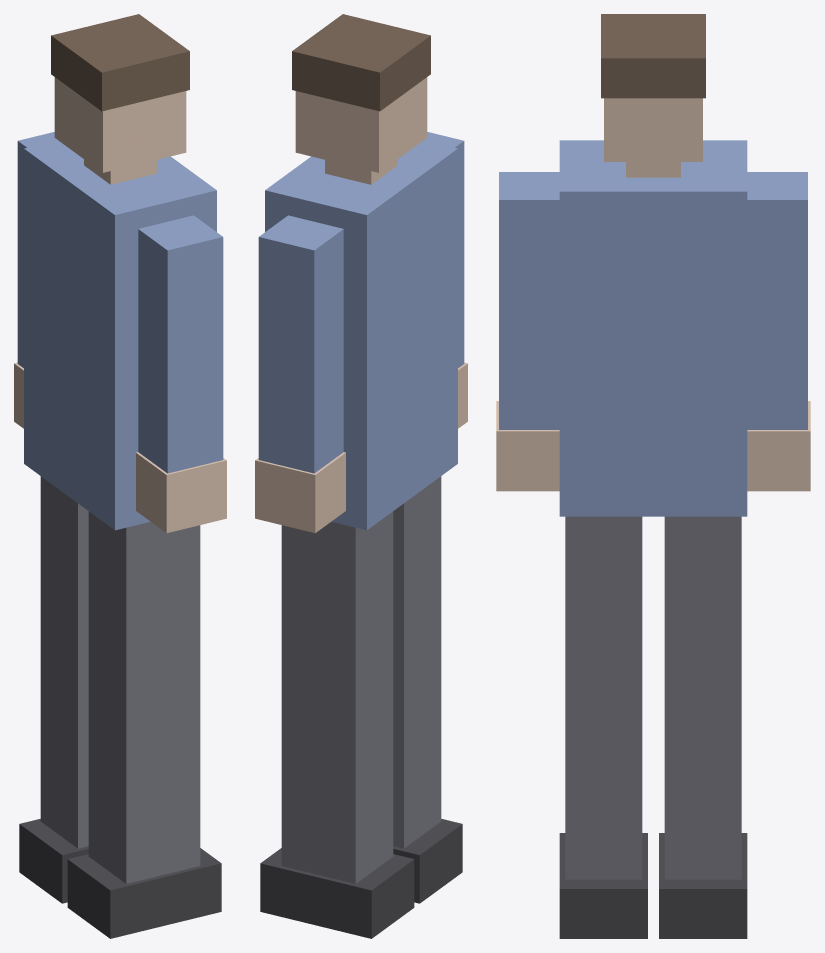
The model's file is SM_WbPed2_3.glb.
3 views of the same model, side by side, from view 1: azimuth 30°, elevation 25°; view 2: azimuth 150°, elevation 25°; view 3: azimuth 270°, elevation 25° (orthographic). The views are drawn at different scales.
Parts seen in each view (by area): view 1: SM_WbPed2_3; view 2: SM_WbPed2_3; view 3: SM_WbPed2_3.
Part boxes in pixels (x1=…): SM_WbPed2_3: x1=14, y1=14, x2=226, y2=938; SM_WbPed2_3: x1=255, y1=14, x2=467, y2=938; SM_WbPed2_3: x1=496, y1=14, x2=810, y2=938.
Bounding box in the file's own units: 0.24 × 1.75 × 0.57.
